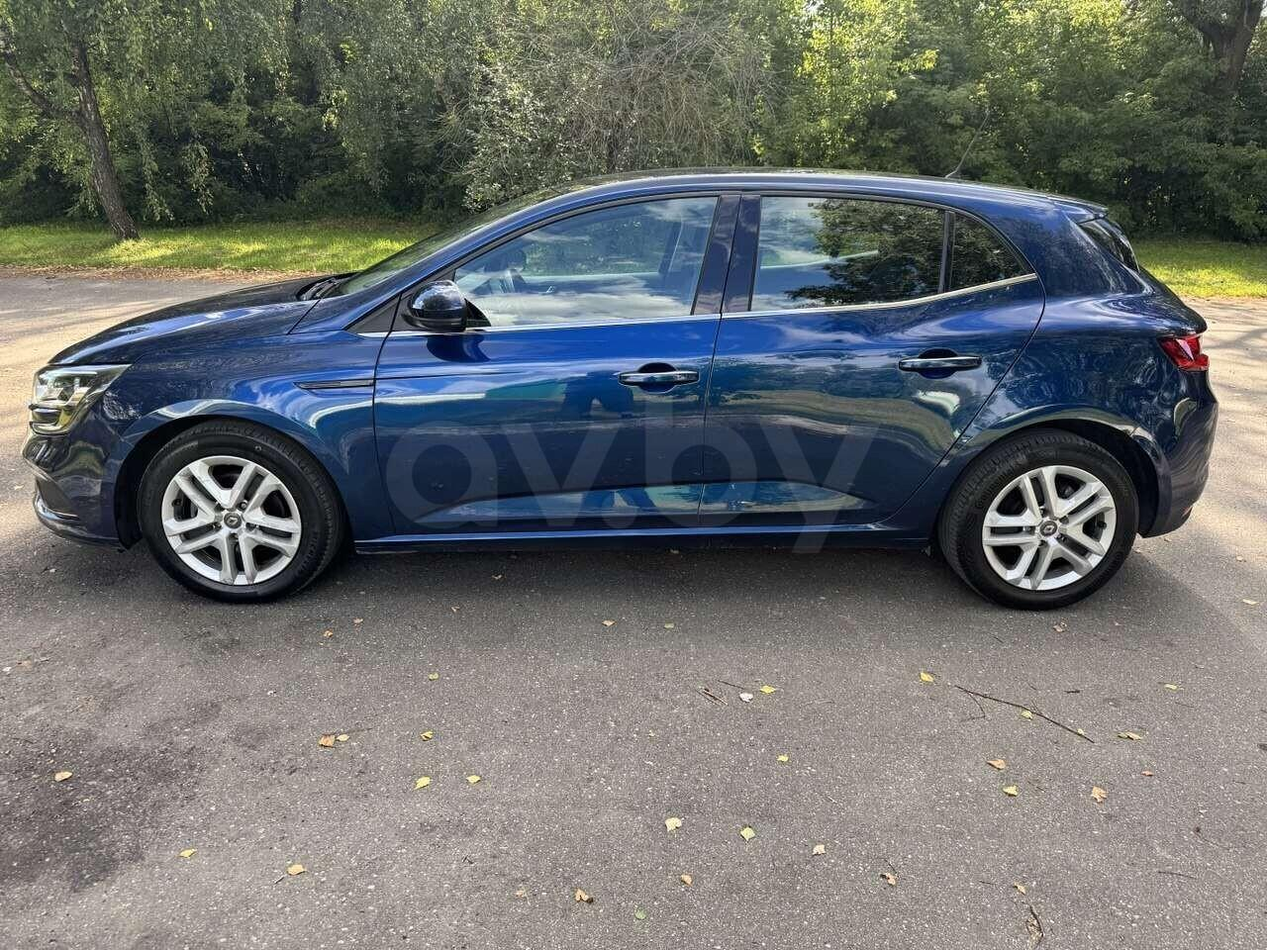Megane_2016-2020: (21, 156, 1214, 627)
